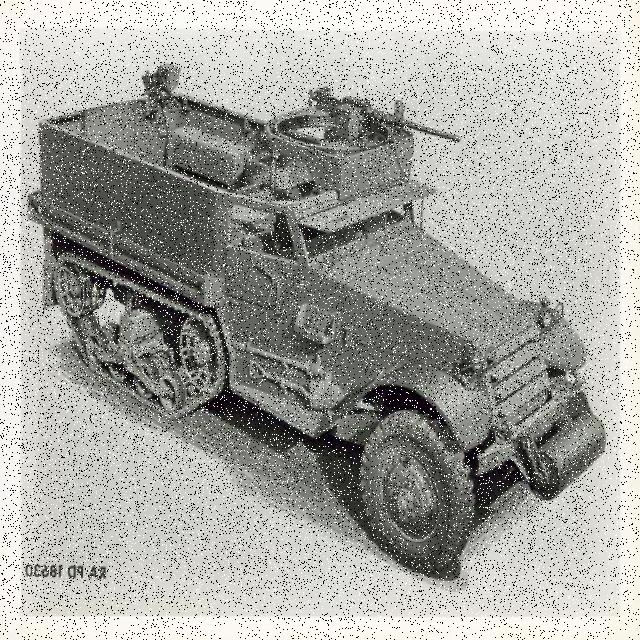MIL_MBT: (3, 65, 592, 607)
